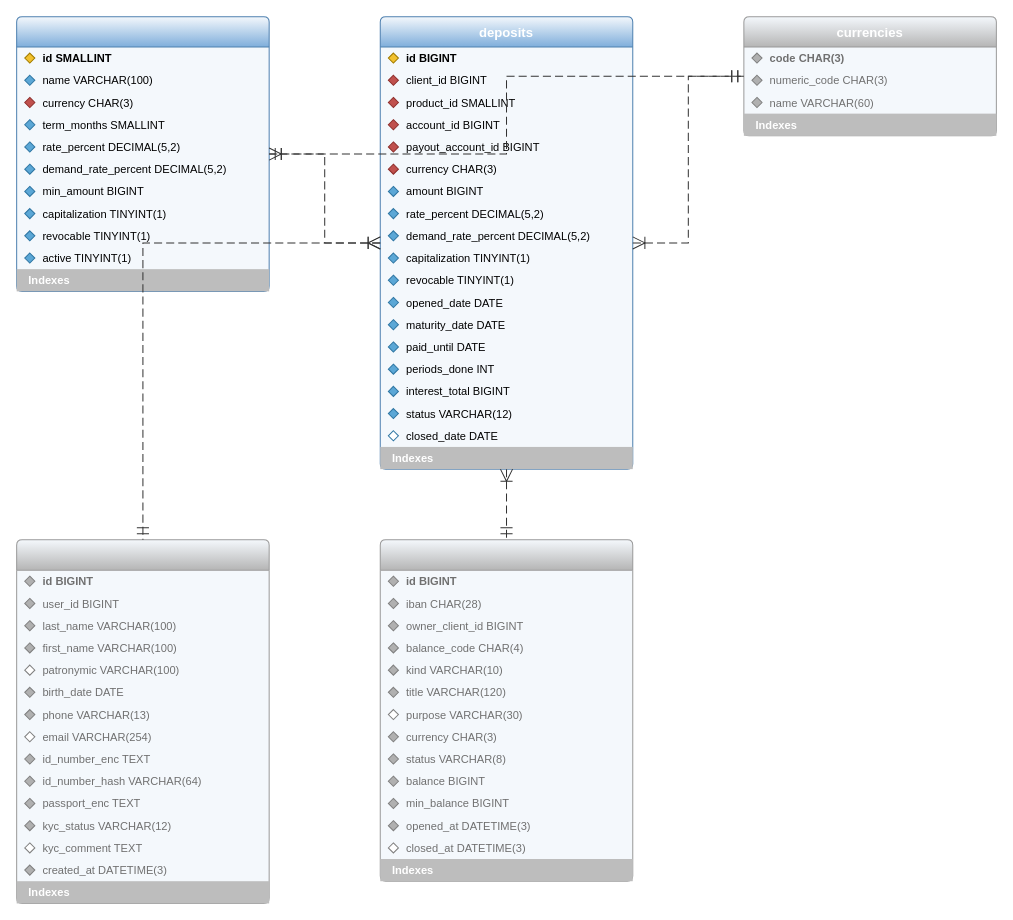
Image size: 1013x920. Some labels were removed from this diagram. The shapes that lost their labels are listed below. From the top down, each one's box as (x1, y1, x2, y2) in pixels, then its label:
(16, 16, 269, 291): deposit_products
(16, 539, 269, 903): clients
(379, 539, 633, 881): accounts
